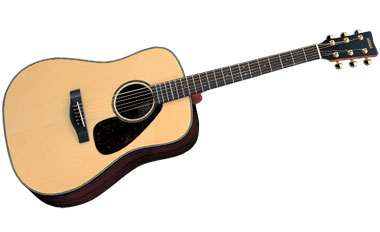guitar: (3, 27, 377, 209)
